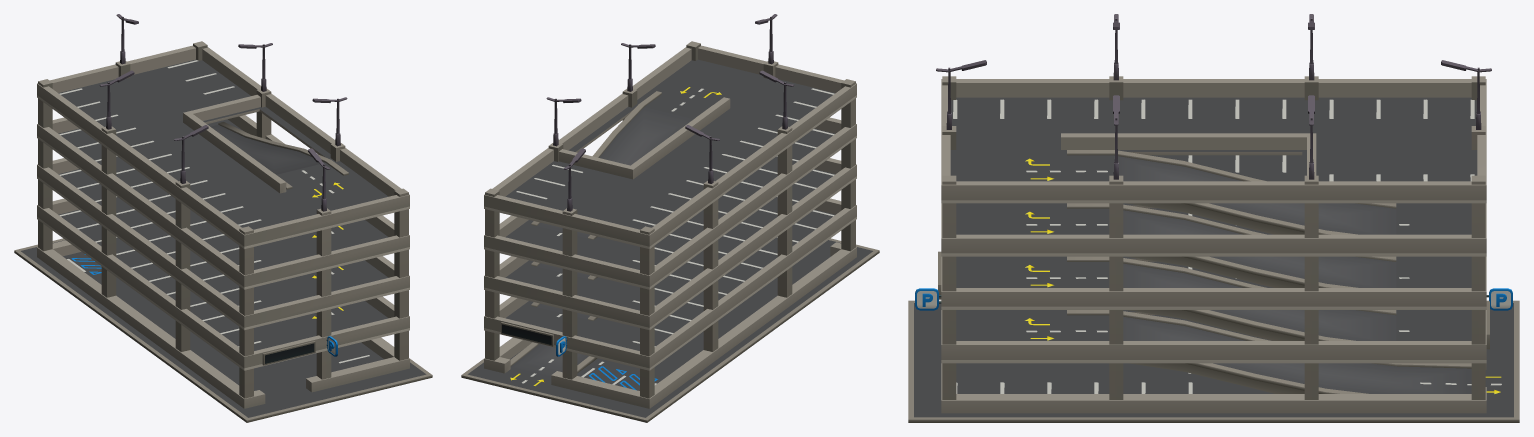
Rendered from Parking_2A.fbx.
3 views of the same model, side by side, from view 1: azimuth 30°, elevation 25°; view 2: azimuth 150°, elevation 25°; view 3: azimuth 270°, elevation 25° (orthographic). The views are drawn at different scales.
Visible parts, largest first — view 1: Parking_2A; view 2: Parking_2A; view 3: Parking_2A, Parking_1B_Logo.
Part boxes in pixels (x1,y1,x2,y2): Parking_2A: [14, 14, 432, 422]; Parking_2A: [461, 14, 879, 422]; Parking_2A: [908, 14, 1519, 422]; Parking_1B_Logo: [915, 288, 1512, 310].
Bounding box in the file's own units: 2400 × 2835 × 5200.
